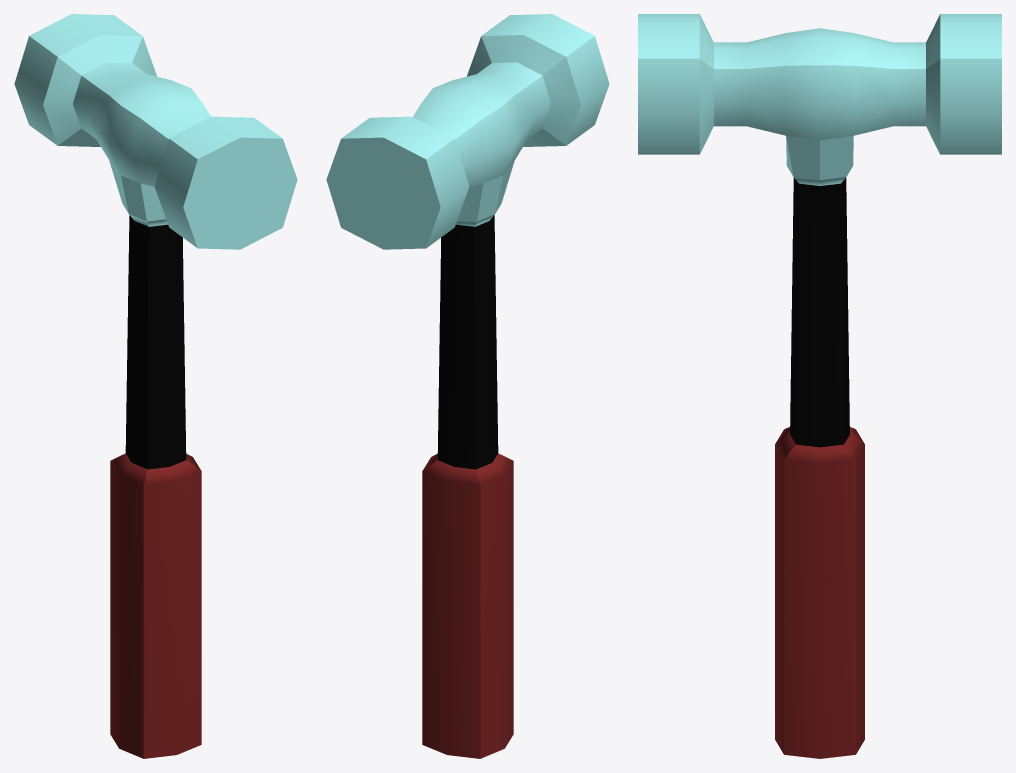
Rendered from hammerObj.obj.
3 views of the same model, side by side, from view 1: azimuth 30°, elevation 25°; view 2: azimuth 150°, elevation 25°; view 3: azimuth 270°, elevation 25° (orthographic). The views are drawn at different scales.
Visible parts, largest first — view 1: HammerMesh; view 2: HammerMesh; view 3: HammerMesh.
Part boxes in pixels (x1=…): HammerMesh: x1=14, y1=14, x2=297, y2=758; HammerMesh: x1=326, y1=14, x2=609, y2=758; HammerMesh: x1=638, y1=14, x2=1001, y2=758.
Bounding box in the file's own units: 6.27 × 34.79 × 16.03.
